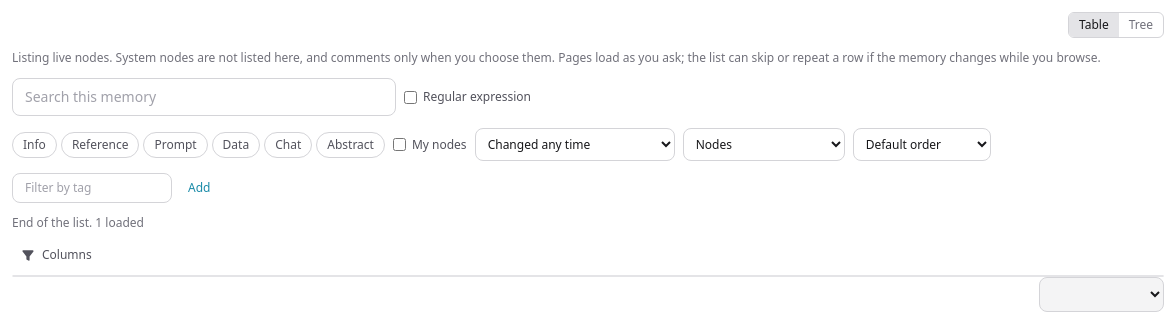
Scenario: regex mode and the scope-aware empty states (#2706 PR 2) › empty search under scope comments says what was searched
The image size is (1176, 329).
Select "Comments" in the dropdown named "Show" at [764, 144], box [683,128,845,161]
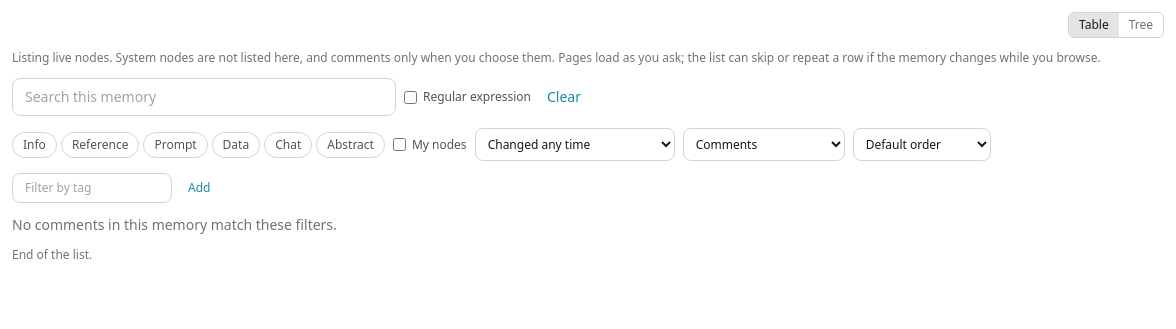
Type "zebra" into the search field with test id "nodes-search" at [204, 97], box [12,78,396,116]
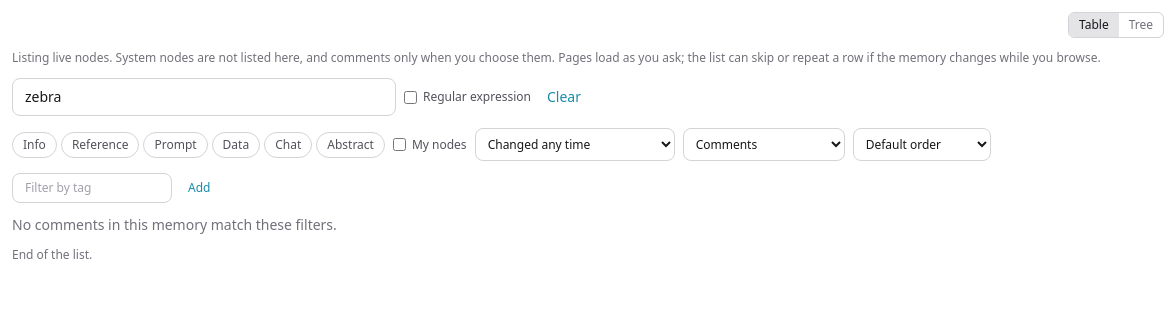
Press Enter in the search field with test id "nodes-search", box [12,78,396,116]
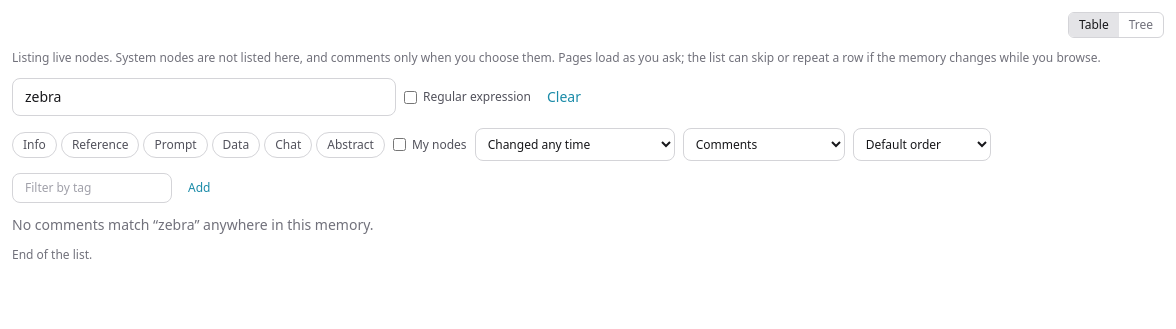
Expected: the text "No comments match “zebra”" is shown, [12,215,374,234]
